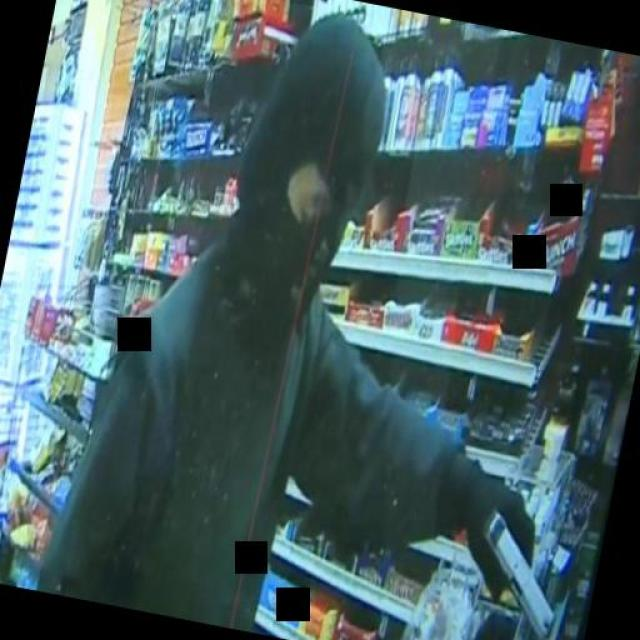gun: (454, 475, 580, 640)
